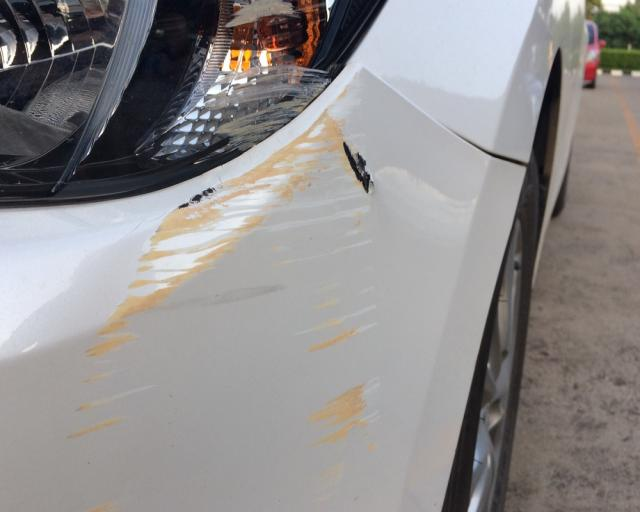scratch: (69, 71, 390, 512), (202, 0, 333, 152)
